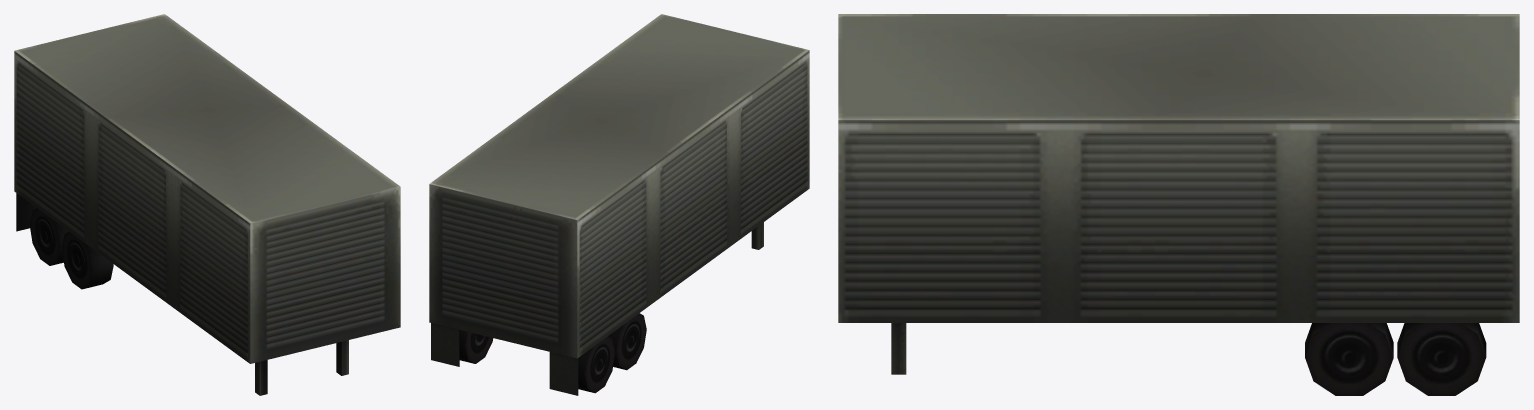
Rendered from Trailer_Supply.DAE.
The picture shows the model from 3 angles, left to right: view 1: azimuth 30°, elevation 25°; view 2: azimuth 150°, elevation 25°; view 3: azimuth 270°, elevation 25°; orthographic projection. The views are drawn at different scales.
Parts seen in each view (by area): view 1: _1164_Trailer_Supply; view 2: _1164_Trailer_Supply; view 3: _1164_Trailer_Supply.
Part boxes in pixels (left/top/right/bottom): _1164_Trailer_Supply: left=14, top=14, right=400, bottom=395; _1164_Trailer_Supply: left=429, top=14, right=809, bottom=395; _1164_Trailer_Supply: left=838, top=14, right=1519, bottom=395.
Bounding box in the file's own units: 96.14 × 118 × 261.
1 material, 1 textured.
